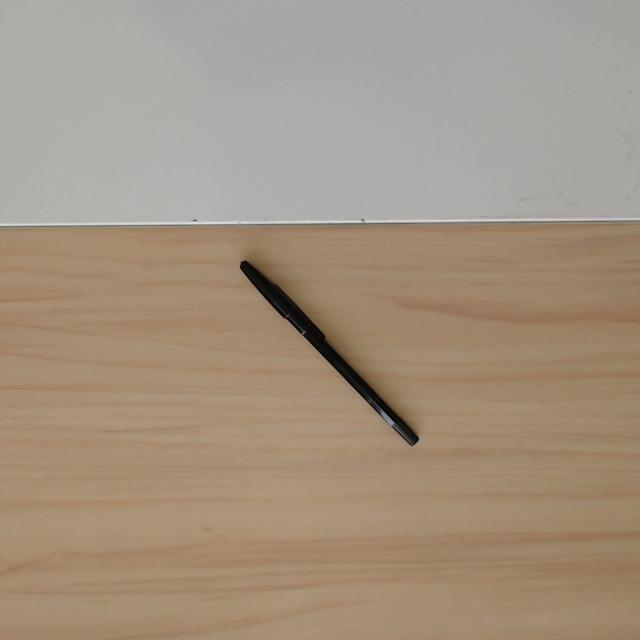Pulpen-Hitam: (234, 255, 424, 449)
